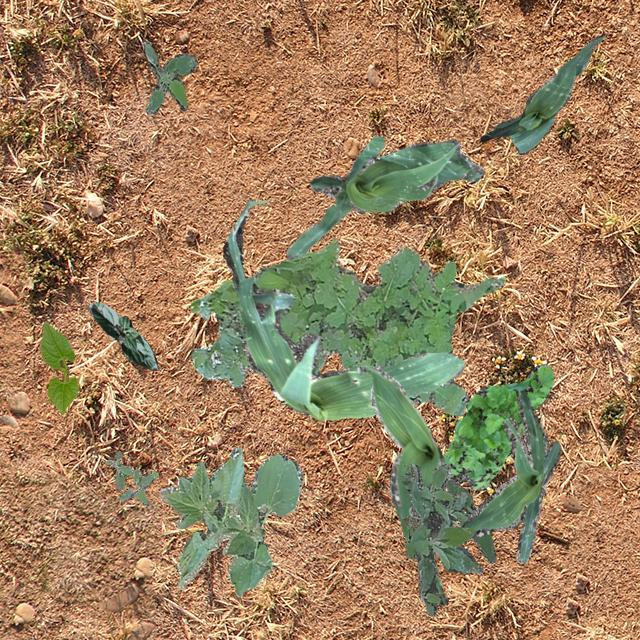crop: (222, 197, 464, 420), (408, 390, 560, 562), (286, 136, 484, 258), (357, 364, 448, 604), (158, 446, 302, 596), (479, 33, 604, 154), (86, 300, 156, 370), (40, 320, 78, 412)
weed: (188, 236, 504, 414), (442, 364, 552, 488), (399, 462, 482, 614), (446, 478, 494, 562), (142, 40, 196, 112), (105, 451, 156, 504)
